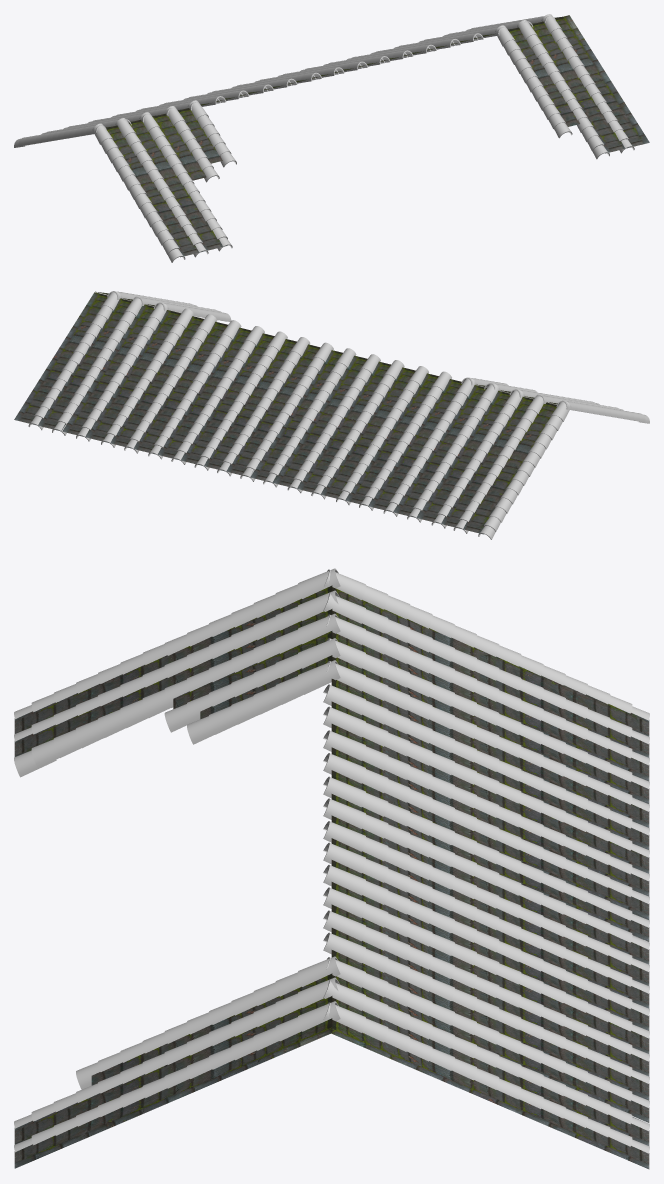
The picture shows the model from 3 angles, top to bottom: view 1: azimuth 30°, elevation 25°; view 2: azimuth 150°, elevation 25°; view 3: azimuth 270°, elevation 25°; orthographic projection. The views are drawn at different scales.
Parts seen in each view (by area): view 1: 对象023; view 2: 对象023; view 3: 对象023.
Boxes of the visible parts, <box> form: 对象023: <box>14,14,649,262</box>; 对象023: <box>14,291,649,539</box>; 对象023: <box>14,568,649,1169</box>.
Bounding box in the file's own units: 245 × 39.24 × 143.
